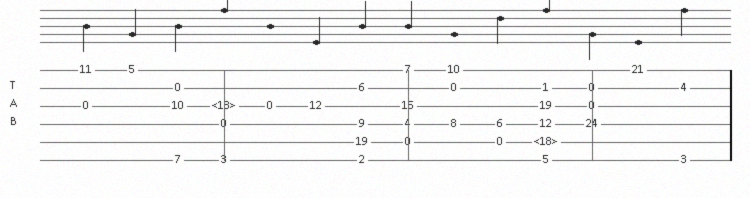0: (83, 100, 93, 112), (175, 82, 185, 94), (221, 118, 231, 130), (267, 100, 277, 112), (405, 136, 415, 148), (451, 82, 461, 94), (497, 136, 507, 148), (589, 82, 599, 94), (589, 100, 599, 112)
1: (543, 82, 553, 94)
10: (172, 100, 188, 112), (448, 64, 464, 76)
11: (80, 64, 96, 76)
12: (310, 100, 326, 112), (540, 118, 556, 130)
15: (402, 100, 418, 112)
19: (356, 136, 372, 148), (540, 100, 556, 112)
2: (359, 154, 369, 166)
21: (632, 64, 648, 76)
24: (586, 118, 602, 130)
3: (221, 154, 231, 166), (681, 154, 691, 166)
4: (405, 118, 415, 130), (681, 82, 691, 94)
5: (129, 64, 139, 76), (543, 154, 553, 166)
6: (359, 82, 369, 94), (497, 118, 507, 130)
7: (175, 154, 185, 166), (405, 64, 415, 76)
8: (451, 118, 461, 130)
9: (359, 118, 369, 130)
harmonic: (212, 100, 240, 112), (534, 136, 562, 148)
